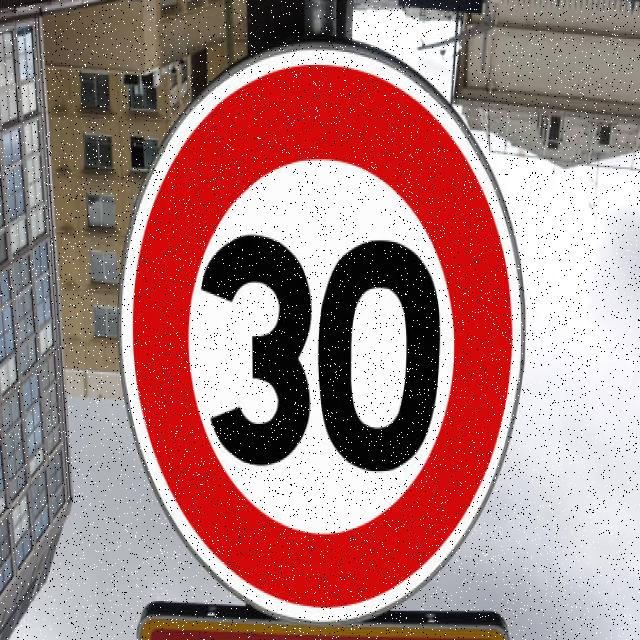speed_limit_30: (120, 39, 530, 636)
